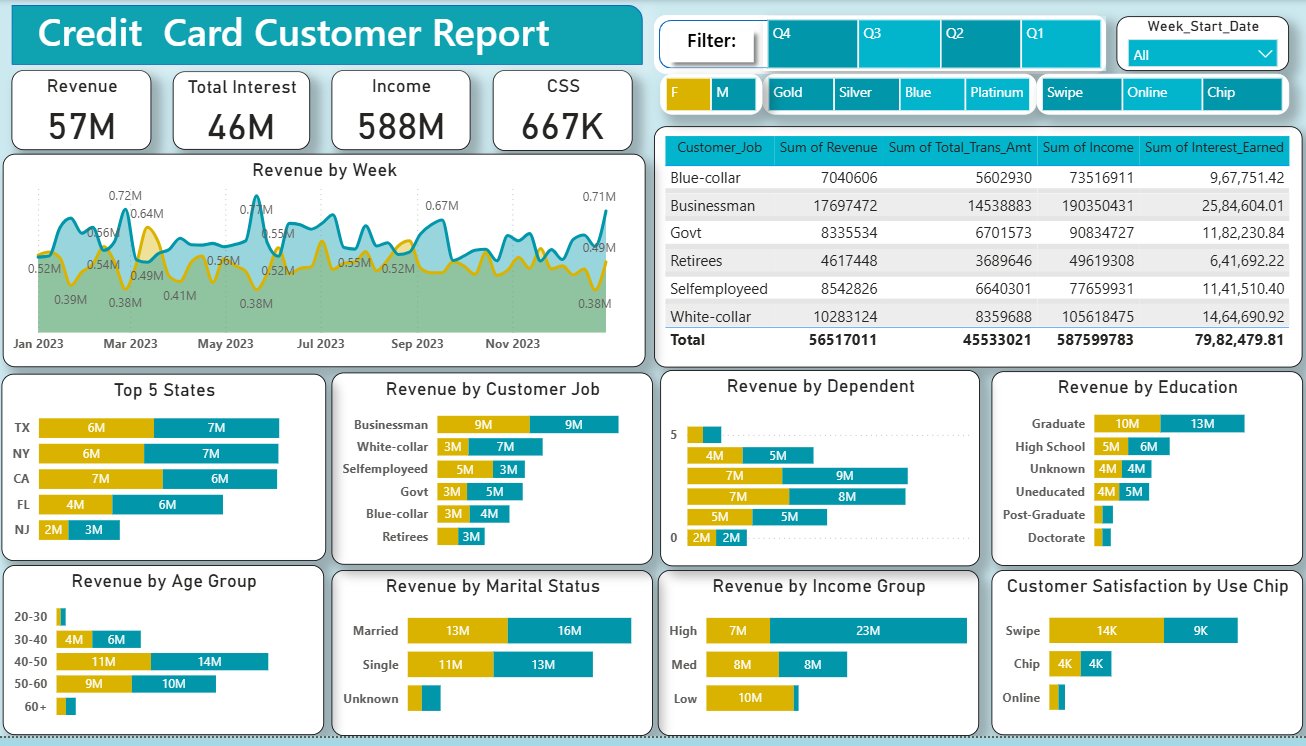

The dashboard page shown, as its layout file describes it:
{"tool":"powerbi","page":{"name":"Credit Card Customer Report","canvas":[1280,720],"ordinal":1},"visuals":[{"type":"barChart","title":" Revenue by Income Group","fields":{"Y":["Sum(ccdb cc_detail.Revenue)"],"Category":["ccdb cust_detail.IncomeGroup"],"Series":["ccdb cust_detail.Gender"]},"box":[644.4,557.6,314.3,162.6],"z":0},{"type":"tableEx","fields":{"Values":["ccdb cust_detail.Customer_Job","Sum(ccdb cc_detail.Revenue)","Sum(ccdb cc_detail.Total_Trans_Amt)","Sum(ccdb cust_detail.Income)","Sum(ccdb cc_detail.Interest_Earned)"]},"box":[640.8,123.5,634.6,236],"z":1000},{"type":"cardVisual","title":"Revenue","fields":{"Data":["Sum(ccdb cc_detail.Revenue)"]},"box":[12.2,68.5,137,78.3],"z":2000},{"type":"cardVisual","title":"Total Interest","fields":{"Data":["Sum(ccdb cc_detail.Total_Trans_Amt)"]},"box":[170,69.7,134.5,77],"z":3000},{"type":"cardVisual","title":"Income","fields":{"Data":["Sum(ccdb cust_detail.Income)"]},"box":[325.3,68.5,135.7,78.3],"z":4000},{"type":"cardVisual","title":"CSS","fields":{"Data":["Sum(ccdb cc_detail.Total_Trans_Ct)"]},"box":[483,68.5,137,79.5],"z":5000},{"type":"areaChart","title":"Revenue by Week","fields":{"Category":["ccdb cc_detail.Week_Start_Date.Variation.Date Hierarchy.Year","ccdb cc_detail.Week_Start_Date.Variation.Date Hierarchy.Month","ccdb cc_detail.Week_Start_Date.Variation.Date Hierarchy.Day"],"Y":["Sum(ccdb cc_detail.Revenue)"],"Series":["ccdb cust_detail.Gender"]},"box":[3.7,150.4,628.5,209.1],"z":6000},{"type":"barChart","title":"Revenue by Marital Status","fields":{"Y":["Sum(ccdb cc_detail.Revenue)"],"Category":["ccdb cust_detail.Marital_Status"],"Series":["ccdb cust_detail.Gender"]},"box":[325.3,557.6,314.3,162.6],"z":7000},{"type":"barChart","title":"Revenue by Customer Job","fields":{"Y":["Sum(ccdb cc_detail.Revenue)"],"Category":["ccdb cust_detail.Customer_Job"],"Series":["ccdb cust_detail.Gender"]},"box":[325.3,364.4,314.3,188.3],"z":8000},{"type":"barChart","title":"Revenue by Education","fields":{"Y":["Sum(ccdb cc_detail.Revenue)"],"Category":["ccdb cust_detail.Education_Level"],"Series":["ccdb cust_detail.Gender"]},"box":[970.9,363.2,304.5,190.8],"z":9000},{"type":"barChart","title":"Top 5 States","fields":{"Y":["Sum(ccdb cc_detail.Revenue)"],"Category":["ccdb cust_detail.State_cd"],"Series":["ccdb cust_detail.Gender"]},"box":[2.5,365.6,317.9,183.4],"z":10000},{"type":"barChart","title":"Revenue by Age Group","fields":{"Y":["Sum(ccdb cc_detail.Revenue)"],"Category":["ccdb cust_detail.AgeGroup"],"Series":["ccdb cust_detail.Gender"]},"box":[3.7,552.7,314.3,166.3],"z":11000},{"type":"shape","box":[12.2,4.9,617.5,58.7],"z":12000},{"type":"shape","box":[640.8,14.7,442.7,57.5],"z":13000},{"type":"textbox","box":[33,0,587,72.2],"z":14000},{"type":"treemap","fields":{"Group":["ccdb cc_detail.Qtr"],"Values":["Avg(ccdb cc_detail.Client_Num)"]},"box":[747.1,15.9,336.3,53.8],"z":15000},{"type":"treemap","fields":{"Values":["Avg(ccdb cc_detail.Client_Num)"],"Group":["ccdb cc_detail.Card_Category"]},"box":[747.1,72.2,267.8,40.4],"z":16000},{"type":"slicer","title":"Week_Start_Date","fields":{"Values":["ccdb cc_detail.Week_Start_Date"]},"box":[1093.2,15.9,168.8,53.8],"z":17000},{"type":"treemap","fields":{"Values":["Avg(ccdb cc_detail.Client_Num)"],"Group":["ccdb cc_detail.Use_Chip"]},"box":[1015,72.2,247,40.4],"z":18000},{"type":"barChart","title":"Revenue by Dependent","fields":{"Y":["Sum(ccdb cc_detail.Revenue)"],"Category":["ccdb cust_detail.Dependent_Count"],"Series":["ccdb cust_detail.Gender"]},"box":[646.9,362,313.1,192],"z":19000},{"type":"barChart","title":"Customer Satisfaction by Use Chip","fields":{"Y":["Sum(ccdb cust_detail.Cust_Satisfaction_Score)"],"Category":["ccdb cc_detail.Use_Chip"],"Series":["ccdb cust_detail.Gender"]},"box":[970.9,557.6,304.5,161.4],"z":20000},{"type":"shape","box":[646.9,20.8,100.3,48.9],"z":21000},{"type":"textbox","box":[646.9,20.8,100.3,51.4],"z":22000},{"type":"treemap","fields":{"Values":["Avg(ccdb cc_detail.Client_Num)"],"Group":["ccdb cust_detail.Gender"]},"box":[646.9,72.2,100.3,40.4],"z":23000}]}

Visuals, with their boxes in screenshot pixels (x1, y1, x2, y2), scaled from the page's 1280x720 canvas onto the 1306x746 screenshot:
" Revenue by Income Group" barChart: region(657, 578, 978, 745)
tableEx - ccdb cust_detail.Customer_Job x Sum(ccdb cc_detail.Revenue): region(654, 128, 1301, 372)
"Revenue" cardVisual: region(12, 71, 152, 152)
"Total Interest" cardVisual: region(173, 72, 311, 152)
"Income" cardVisual: region(332, 71, 470, 152)
"CSS" cardVisual: region(493, 71, 633, 153)
"Revenue by Week" areaChart: region(4, 156, 645, 372)
"Revenue by Marital Status" barChart: region(332, 578, 653, 745)
"Revenue by Customer Job" barChart: region(332, 378, 653, 573)
"Revenue by Education" barChart: region(991, 376, 1301, 574)
"Top 5 States" barChart: region(3, 379, 327, 569)
"Revenue by Age Group" barChart: region(4, 573, 324, 745)
shape: region(12, 5, 642, 66)
shape: region(654, 15, 1106, 75)
textbox: region(34, 0, 633, 75)
treemap - ccdb cc_detail.Qtr x Avg(ccdb cc_detail.Client_Num): region(762, 16, 1105, 72)
treemap - Avg(ccdb cc_detail.Client_Num) x ccdb cc_detail.Card_Category: region(762, 75, 1036, 117)
"Week_Start_Date" slicer: region(1115, 16, 1288, 72)
treemap - Avg(ccdb cc_detail.Client_Num) x ccdb cc_detail.Use_Chip: region(1036, 75, 1288, 117)
"Revenue by Dependent" barChart: region(660, 375, 980, 574)
"Customer Satisfaction by Use Chip" barChart: region(991, 578, 1301, 745)
shape: region(660, 22, 762, 72)
textbox: region(660, 22, 762, 75)
treemap - Avg(ccdb cc_detail.Client_Num) x ccdb cust_detail.Gender: region(660, 75, 762, 117)
